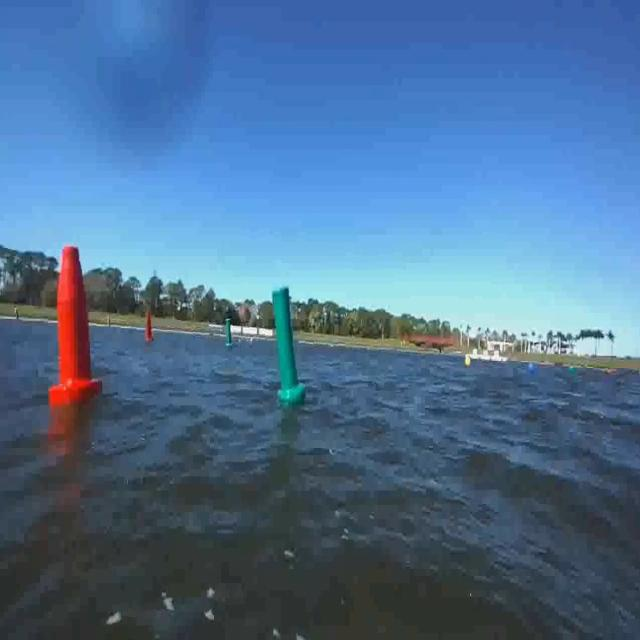blue-buoy: (528, 362, 537, 375)
green-column-buoy: (270, 285, 306, 402), (224, 320, 233, 350)
red-column-buoy: (49, 246, 100, 404), (145, 314, 154, 344)
yellow-buoy: (464, 354, 472, 369)
